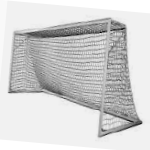goals: (8, 17, 143, 139)
